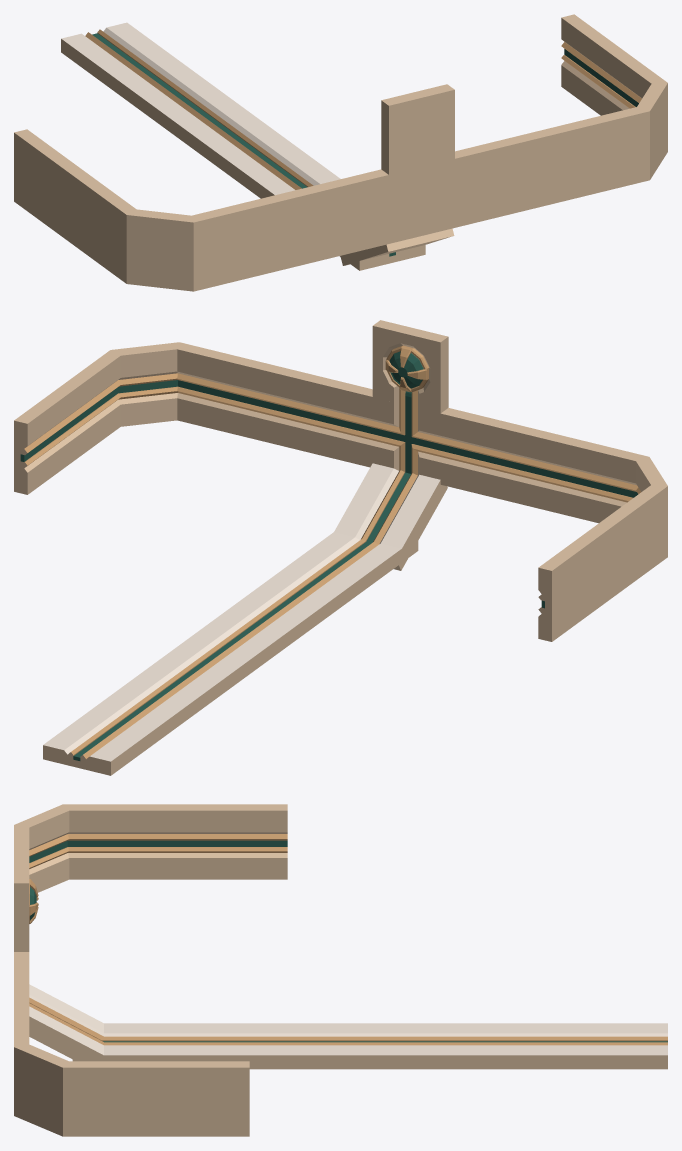
The model's file is Circuit1.glb.
3 views of the same model, one above another, from view 1: azimuth 30°, elevation 25°; view 2: azimuth 150°, elevation 25°; view 3: azimuth 270°, elevation 25° (orthographic). The views are drawn at different scales.
Parts seen in each view (by area): view 1: mergedBlocks(Clone); view 2: mergedBlocks(Clone); view 3: mergedBlocks(Clone).
Boxes of the visible parts, x1=… form: mergedBlocks(Clone): x1=14, y1=14, x2=667, y2=291; mergedBlocks(Clone): x1=14, y1=320, x2=667, y2=775; mergedBlocks(Clone): x1=14, y1=804, x2=667, y2=1136.
Bounding box in the file's own units: 24.6 × 8.42 × 25.8.
